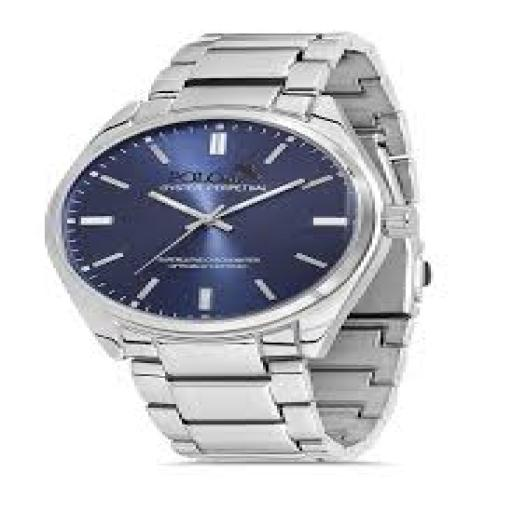KolSaati: (27, 11, 465, 486)
